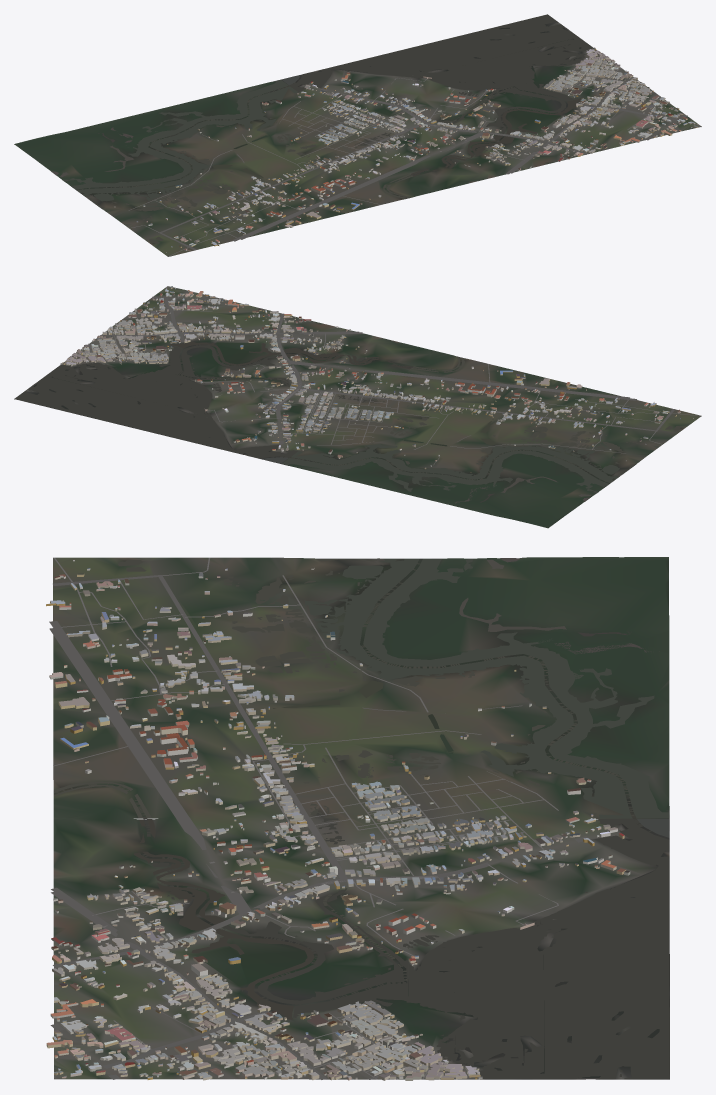
3 renders of one model, top to bottom at view 1: azimuth 30°, elevation 25°; view 2: azimuth 150°, elevation 25°; view 3: azimuth 270°, elevation 25°, orthographic. The views are drawn at different scales.
Visible parts, largest first — view 1: ground, water, buildings, roads; view 2: ground, water, buildings, roads; view 3: ground, water, buildings, roads.
Boxes of the visible parts, bbox=[...] form: ground: bbox=[14, 21, 701, 256]; water: bbox=[52, 14, 593, 243]; buildings: bbox=[113, 47, 698, 252]; roads: bbox=[128, 60, 687, 256]; ground: bbox=[14, 286, 701, 528]; water: bbox=[14, 341, 680, 503]; buildings: bbox=[60, 286, 693, 472]; roads: bbox=[77, 296, 701, 465]; ground: bbox=[53, 557, 669, 1079]; water: bbox=[54, 558, 669, 1079]; buildings: bbox=[46, 559, 630, 1080]; roads: bbox=[49, 557, 590, 1079].
Bounding box in the file's own units: 2810 × 21.96 × 1419.
